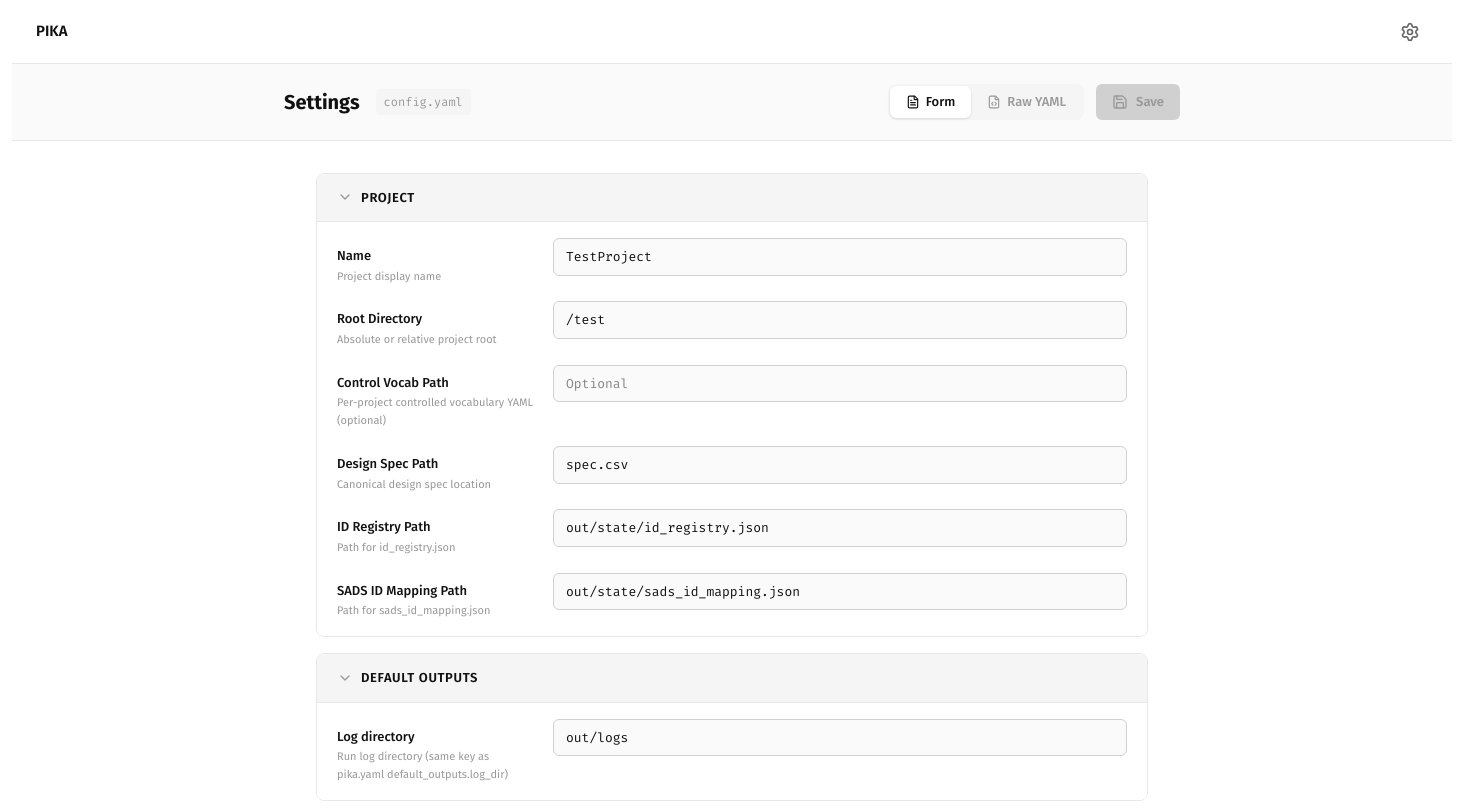
Scenario: SettingsPage › switches to raw mode and shows textarea
Click the button "Raw YAML". click: (1027, 102)
box: [971,86,1082,118]
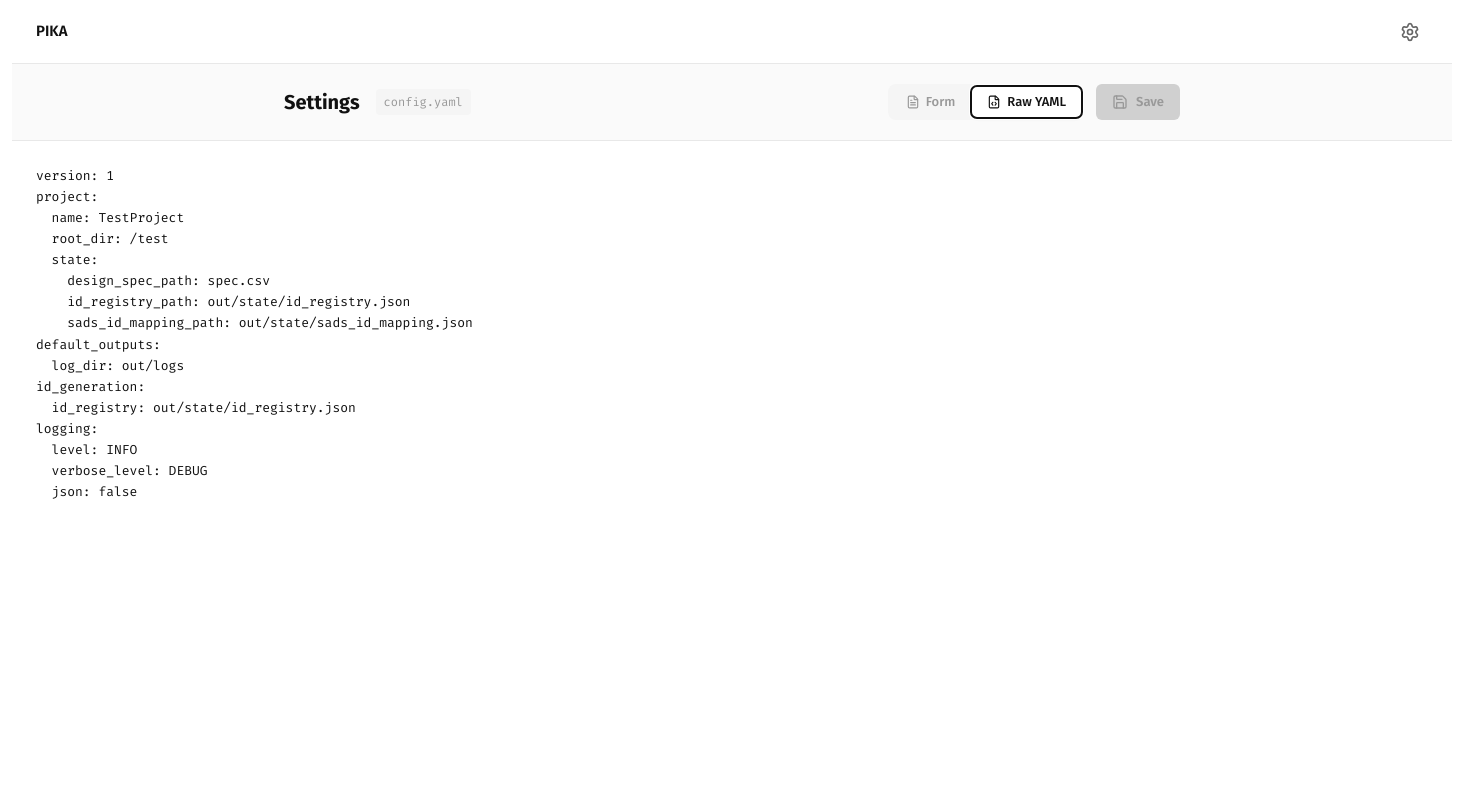
Expected: the text box is shown
